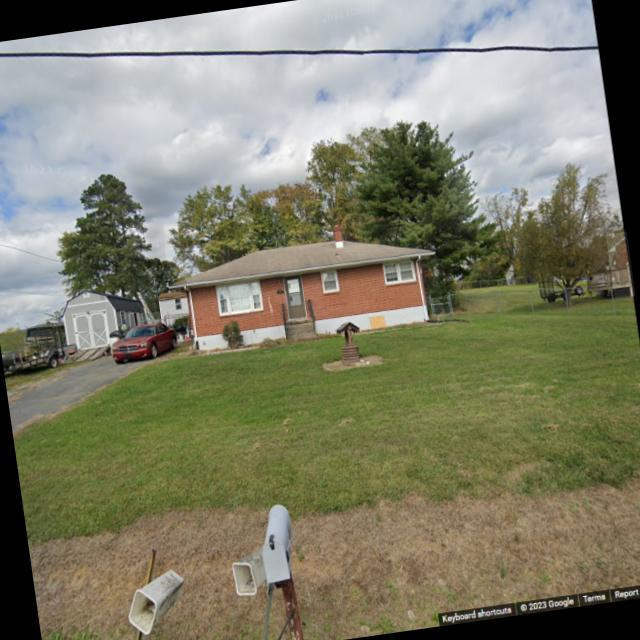House: (165, 212, 445, 356), (156, 278, 194, 334), (606, 231, 636, 299)
